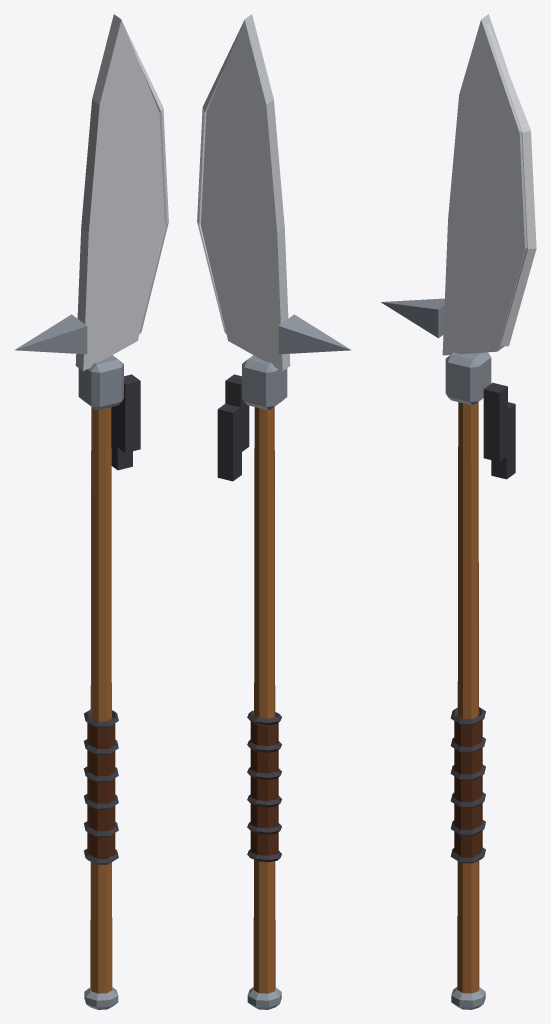
The model's file is IronGlaive.fbx.
3 views of the same model, side by side, from view 1: azimuth 30°, elevation 25°; view 2: azimuth 150°, elevation 25°; view 3: azimuth 330°, elevation 25° (orthographic).
Visible parts, largest first — view 1: IronGlaive; view 2: IronGlaive; view 3: IronGlaive.
Boxes of the visible parts, x1=… form: IronGlaive: x1=14, y1=14, x2=168, y2=1009; IronGlaive: x1=197, y1=14, x2=351, y2=1009; IronGlaive: x1=381, y1=14, x2=536, y2=1009.
Bounding box in the file's own units: 1.42 × 8.62 × 0.34.
Materials: 1 (1 with a texture image).
